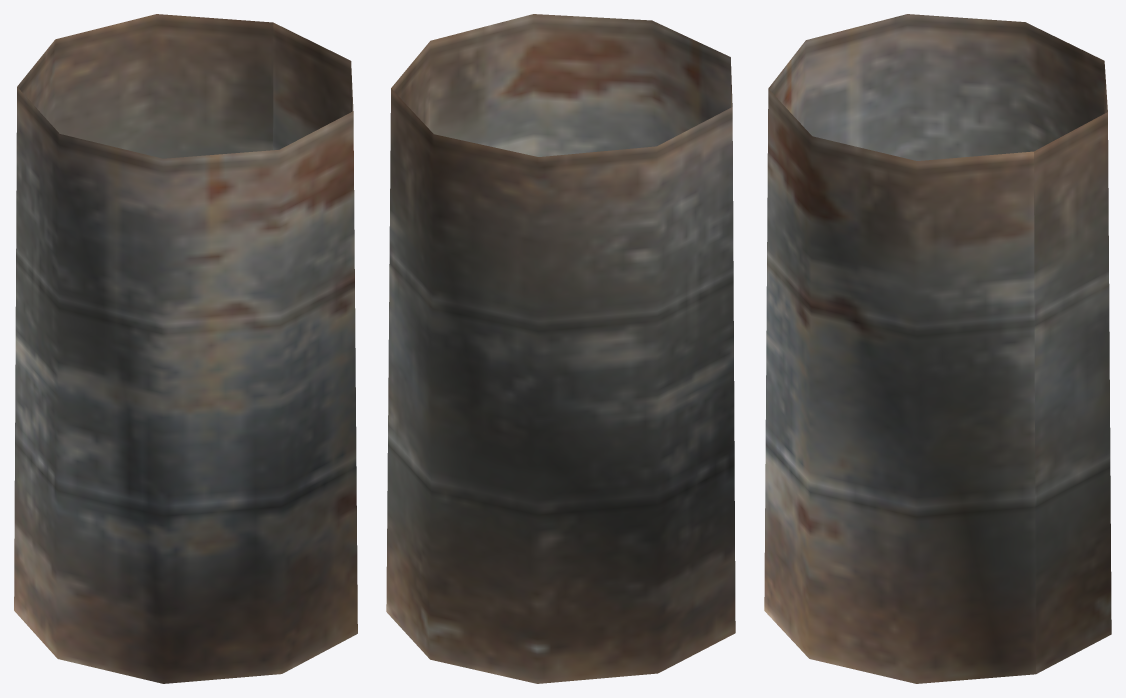
The model's file is xiaowupin06.fbx.
3 views of the same model, side by side, from view 1: azimuth 30°, elevation 25°; view 2: azimuth 150°, elevation 25°; view 3: azimuth 270°, elevation 25° (orthographic).
Visible parts, largest first — view 1: polySurface1; view 2: polySurface1; view 3: polySurface1.
Boxes of the visible parts, x1=… form: polySurface1: x1=14, y1=14, x2=357, y2=683; polySurface1: x1=386, y1=14, x2=735, y2=683; polySurface1: x1=764, y1=14, x2=1111, y2=683.
Size of the model in its own units: 73.7 by 122 by 73.32.
1 material, 1 textured.
